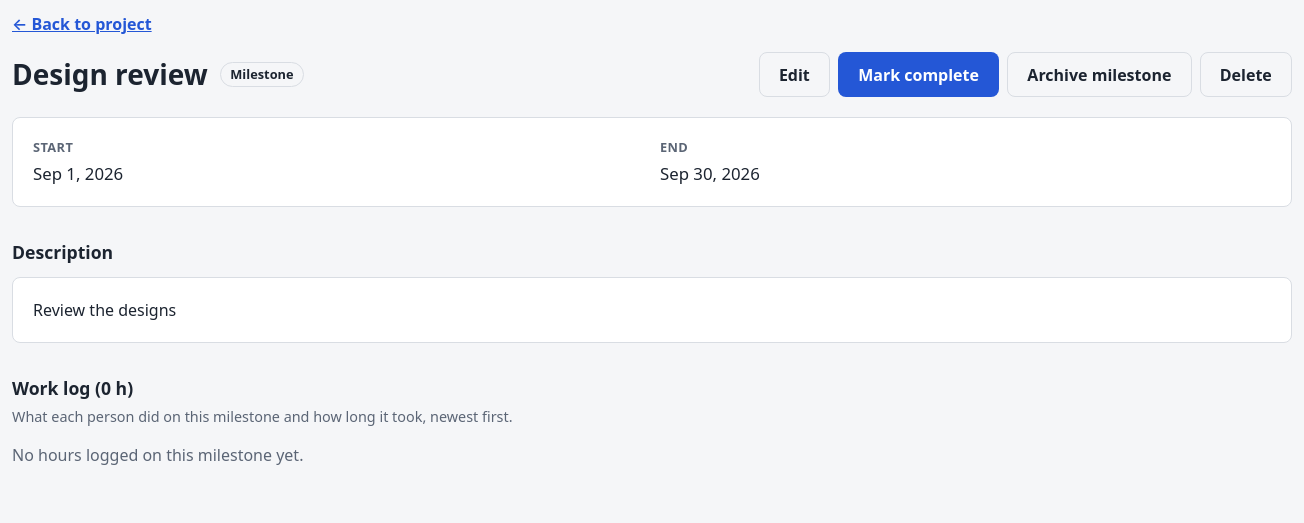
Test: MilestonePage actions › shows an error when deleting fails and re-enables the buttons
Step 1. Click the button "Delete" → (1246, 75), box left=1200, top=52, right=1292, bottom=97
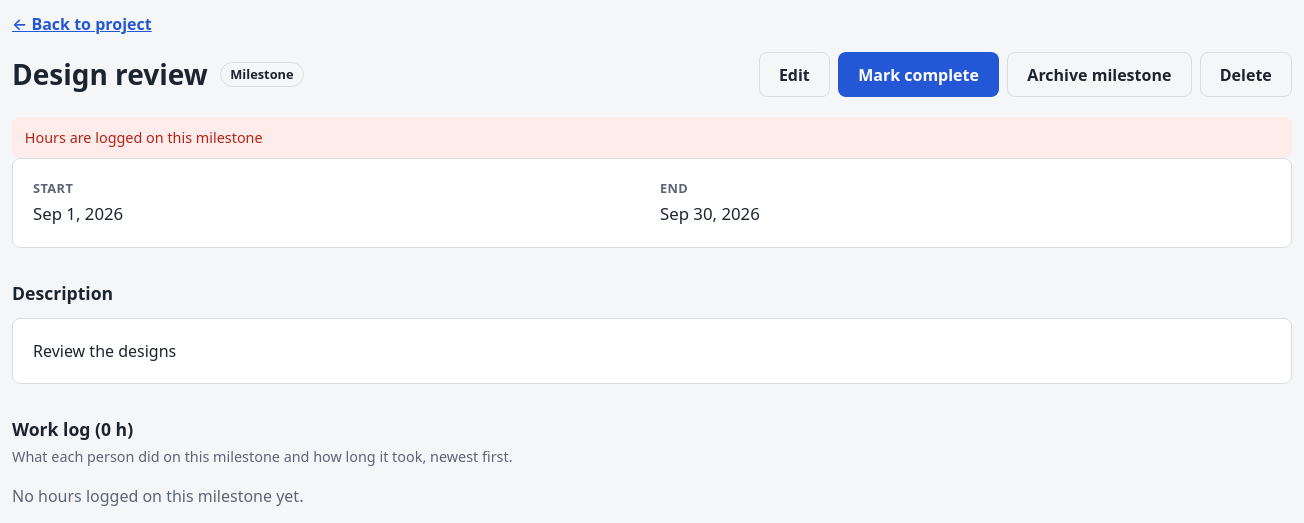
Check: the heading "Design review" is shown, box left=12, top=58, right=208, bottom=91
Check: the message reads "Hours are logged on this milestone", box left=25, top=128, right=263, bottom=147
